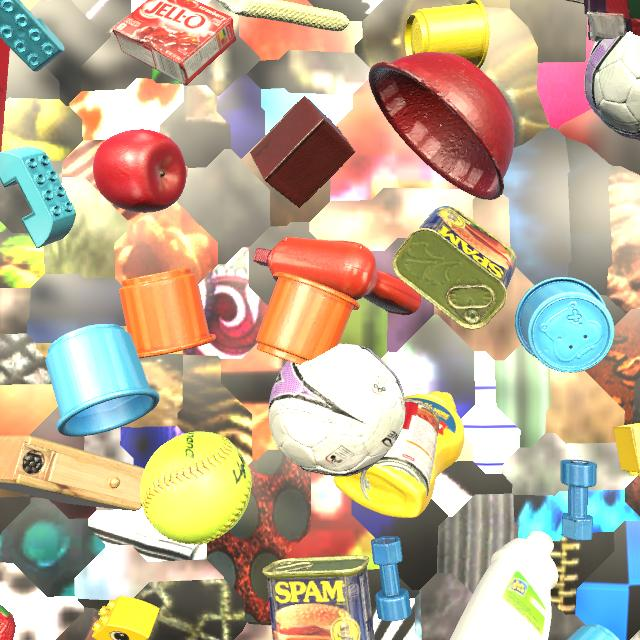ycb_002_master_chef_can: (566, 0, 584, 4)
ycb_003_cracker_box: (0, 38, 10, 152)
ycb_005_tomato_soup_can: (360, 399, 441, 501)
ycb_006_mustard_bottle: (333, 391, 465, 518)
ycb_009_gelatin_box: (112, 0, 236, 85)
ycb_010_potted_meat_can: (392, 206, 517, 329), (263, 555, 375, 640)
ycb_012_strawberry: (0, 605, 16, 640)
ycb_013_apple: (93, 129, 186, 213)
